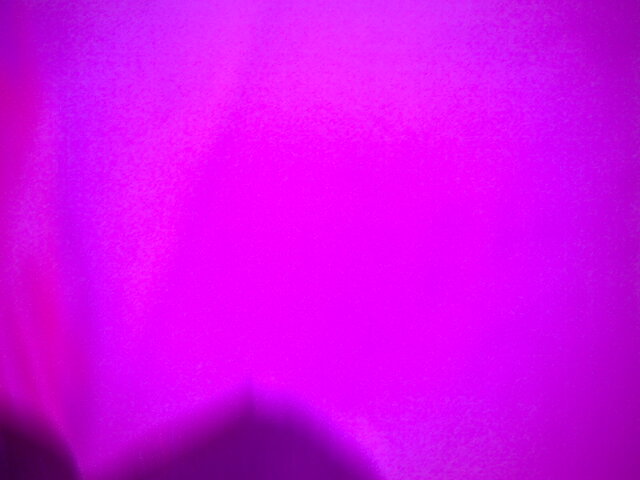lil_plant: (141, 329, 473, 383)
